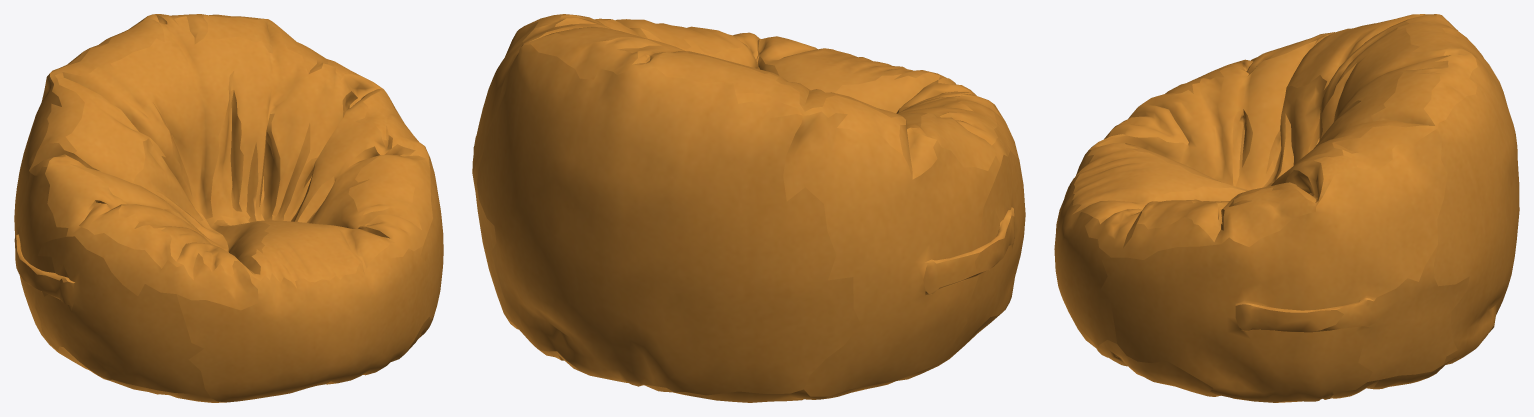
The model's file is beanbag.glb.
3 views of the same model, side by side, from view 1: azimuth 30°, elevation 25°; view 2: azimuth 150°, elevation 25°; view 3: azimuth 270°, elevation 25° (orthographic). The views are drawn at different scales.
Visible parts, largest first — view 1: world; view 2: world; view 3: world.
Boxes of the visible parts, x1,y1,x2,y2 form: world: (14, 14, 443, 402); world: (472, 14, 1025, 402); world: (1054, 14, 1519, 402).
Size of the model in its own units: 0.9 by 0.5394 by 0.8474.
1 material, 1 textured.
